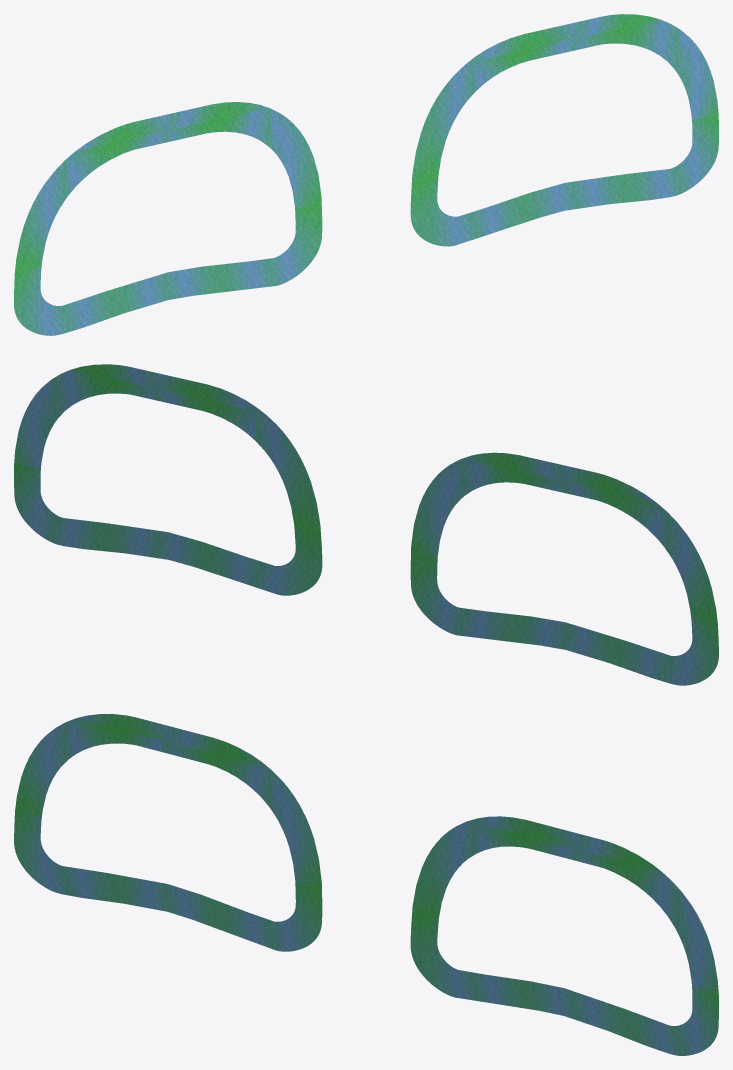
Rendered from Ohne Titel 3.fbx.
3 renders of one model, top to bottom at view 1: azimuth 30°, elevation 25°; view 2: azimuth 150°, elevation 25°; view 3: azimuth 330°, elevation 25°, orthographic.
Parts seen in each view (by area): view 1: Extrudieren; view 2: Extrudieren; view 3: Extrudieren.
Part boxes in pixels (x1,y1,x2,y2): Extrudieren: (14,14,718,335); Extrudieren: (14,364,718,685); Extrudieren: (14,714,718,1055).
Bounding box in the file's own units: 13.82 × 3.83 × 0.05.
Materials: 1 (1 with a texture image).
